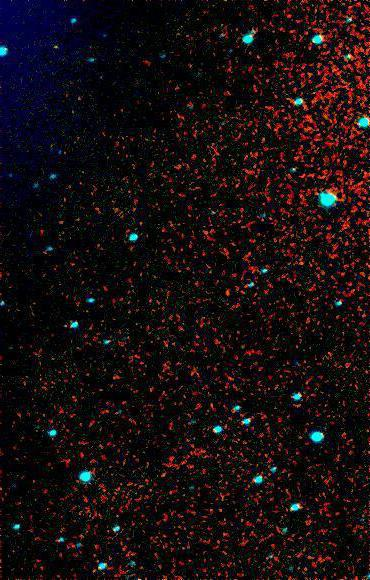star: (43, 31, 73, 61)
